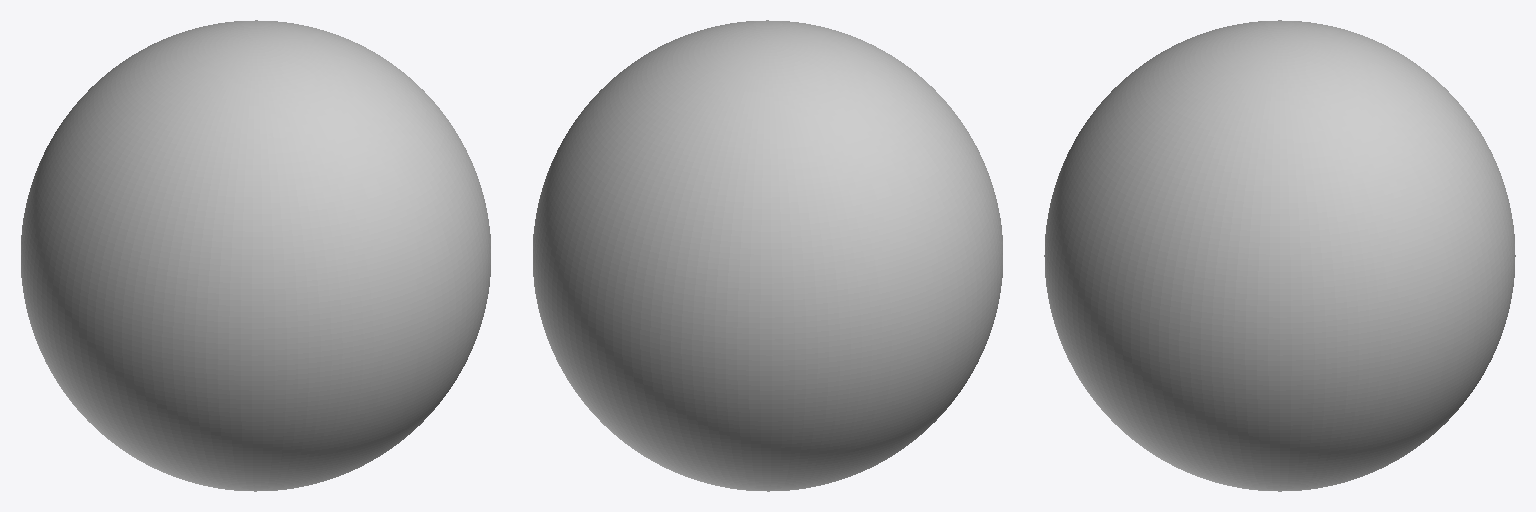
File: sol.obj
The picture shows the model from 3 angles: view 1: azimuth 30°, elevation 25°; view 2: azimuth 150°, elevation 25°; view 3: azimuth 270°, elevation 25°; orthographic projection.
Visible parts, largest first — view 1: Moon_Sphere.000; view 2: Moon_Sphere.000; view 3: Moon_Sphere.000.
Boxes of the visible parts, x1,y1,x2,y2 form: Moon_Sphere.000: [21, 20, 490, 491]; Moon_Sphere.000: [533, 20, 1002, 491]; Moon_Sphere.000: [1044, 20, 1515, 491].
Size of the model in its own units: 104 by 104 by 104.